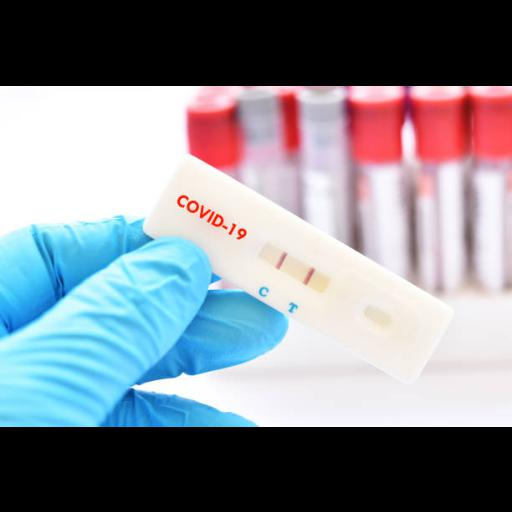Pos: (139, 152, 453, 385)
